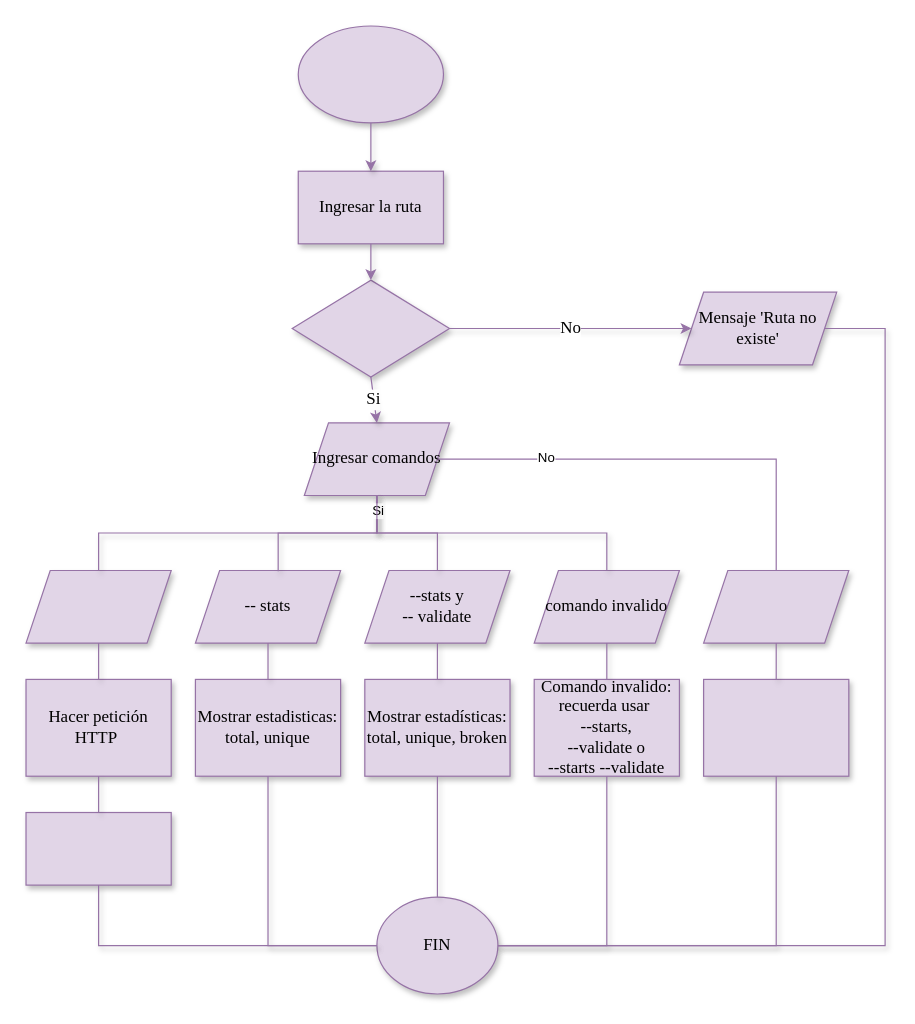
The diagram is 915 pixels wide and 1024 high, and some of its shapes have lost their labels. The centre of each missing label's shape, as x and y in pixels:
"-- validate" goes at point (99, 608).
"INICIO" goes at point (371, 75).
"Mostrar: href, text, file" goes at point (777, 729).
"Mostrar: href, text, file, status, ok" goes at point (99, 850).
"principal comando" goes at point (777, 608).
"Verificar si la ruta exista" goes at point (371, 329).
